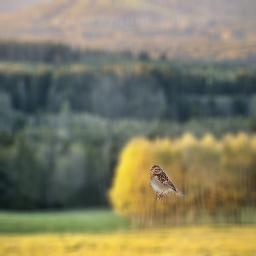Sparrow: (150, 165, 190, 203)
